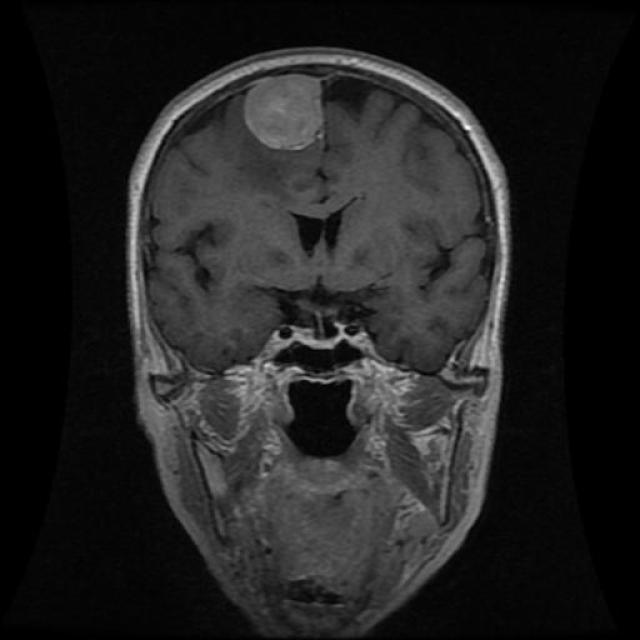meningioma: (244, 75, 322, 152)
